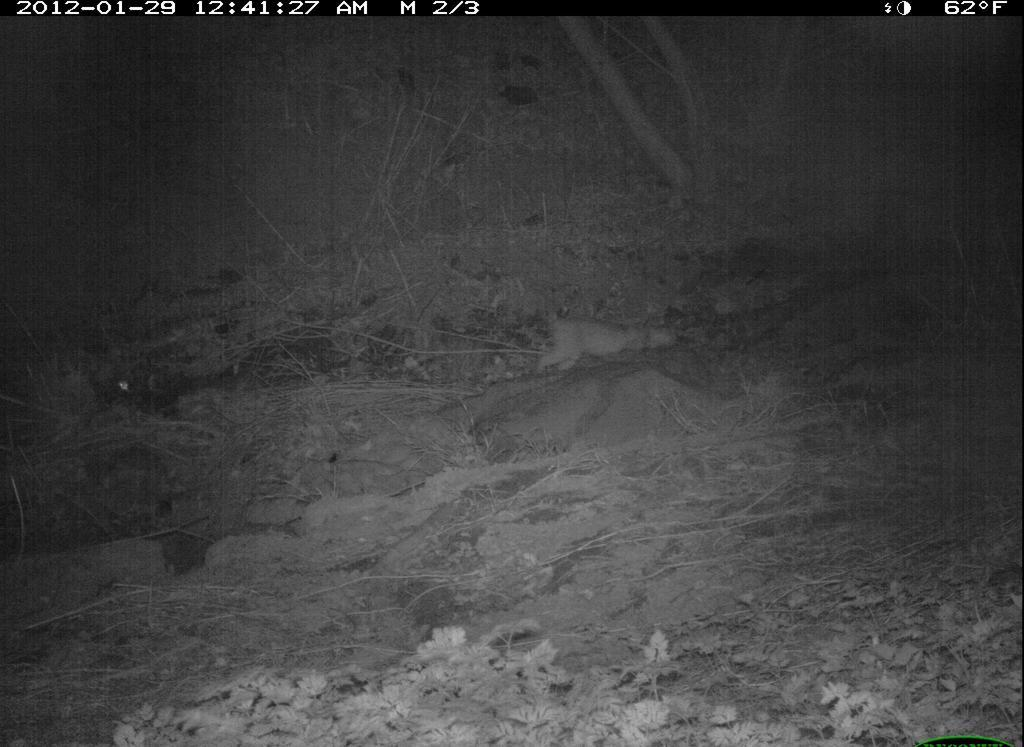bobcat: (543, 289, 701, 391)
